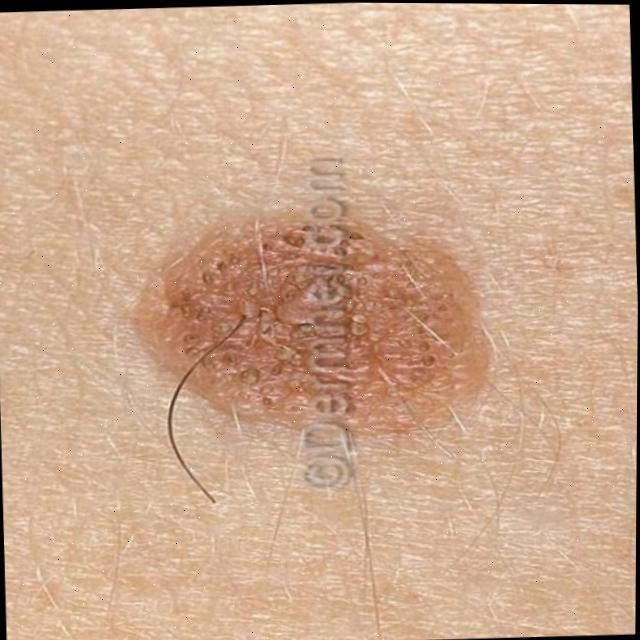Eczema: (196, 242, 429, 390)
